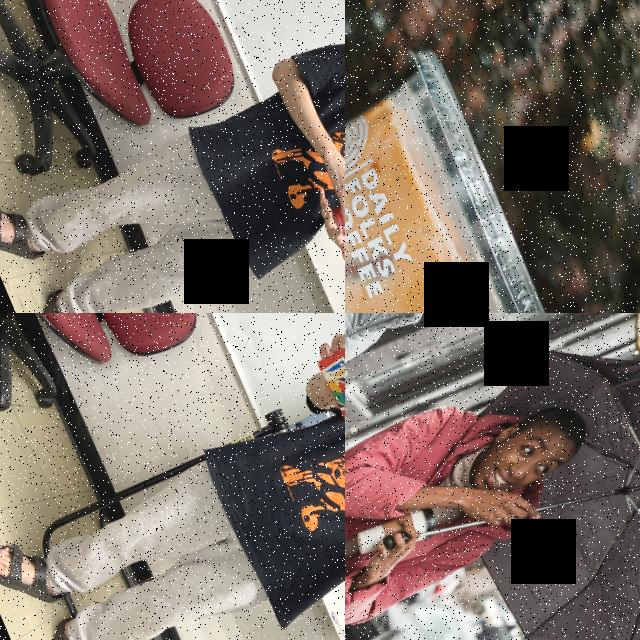can: (328, 185, 345, 240)
cup: (345, 42, 568, 313), (350, 501, 442, 567)
